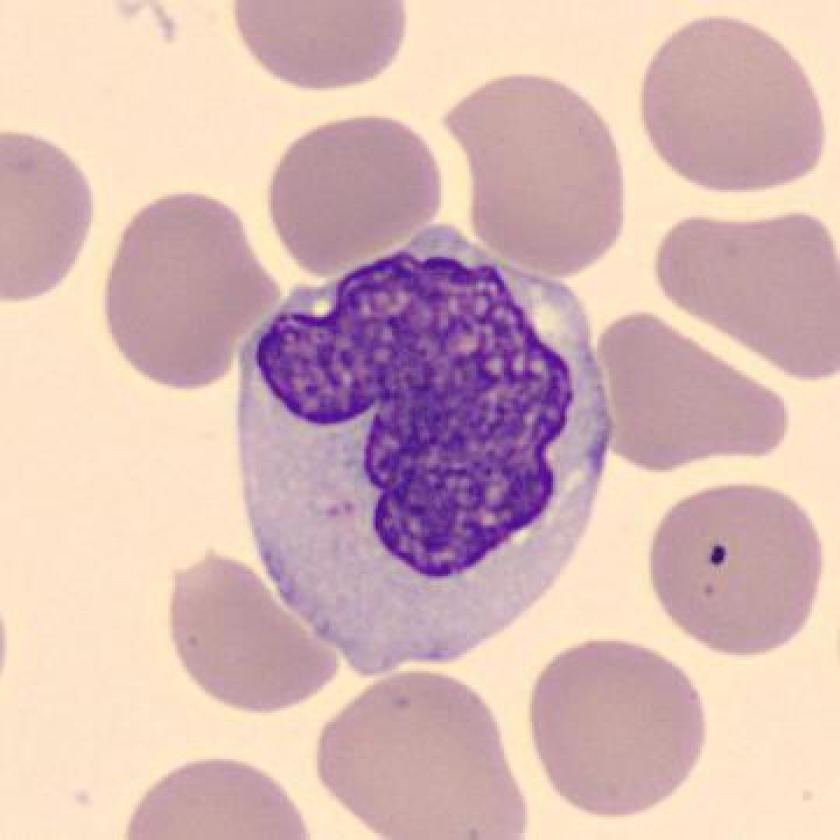monocyte: (220, 207, 622, 695)
